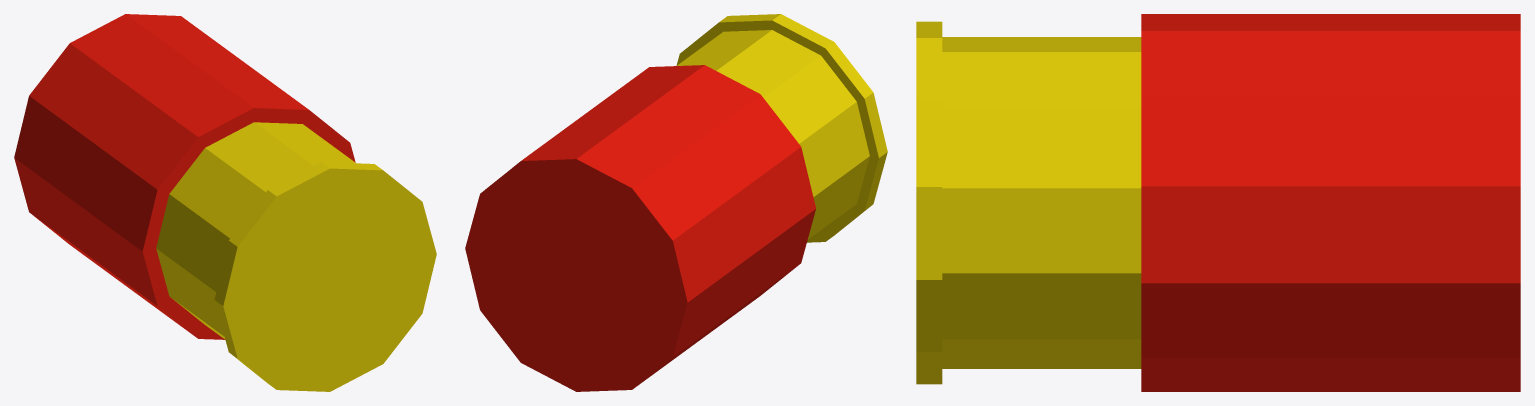
File: SniperBullet.fbx
3 views of the same model, side by side, from view 1: azimuth 30°, elevation 25°; view 2: azimuth 150°, elevation 25°; view 3: azimuth 270°, elevation 25° (orthographic). The views are drawn at different scales.
Visible parts, largest first — view 1: Cube; view 2: Cube; view 3: Cube.
Boxes of the visible parts, <box> form: Cube: <box>14,14,436,391</box>; Cube: <box>465,14,887,391</box>; Cube: <box>916,14,1520,391</box>.
Size of the model in its own units: 19.45 by 19.45 by 30.99.
